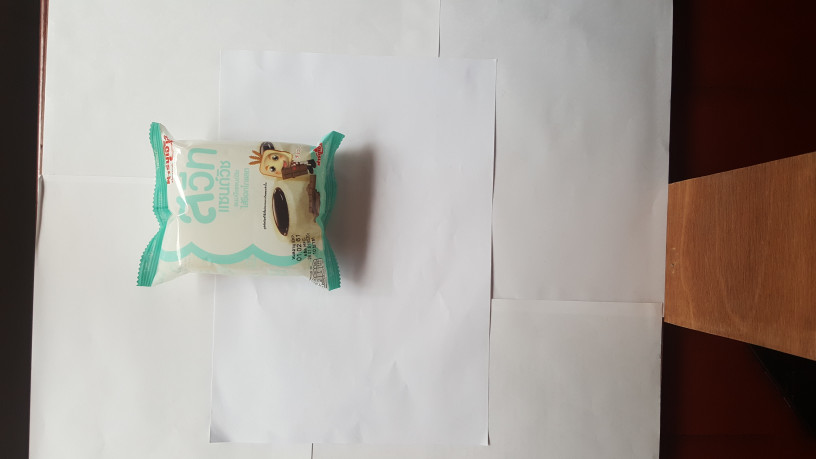farmhouse-sweetsandwich-chocolate: (130, 121, 346, 291)
